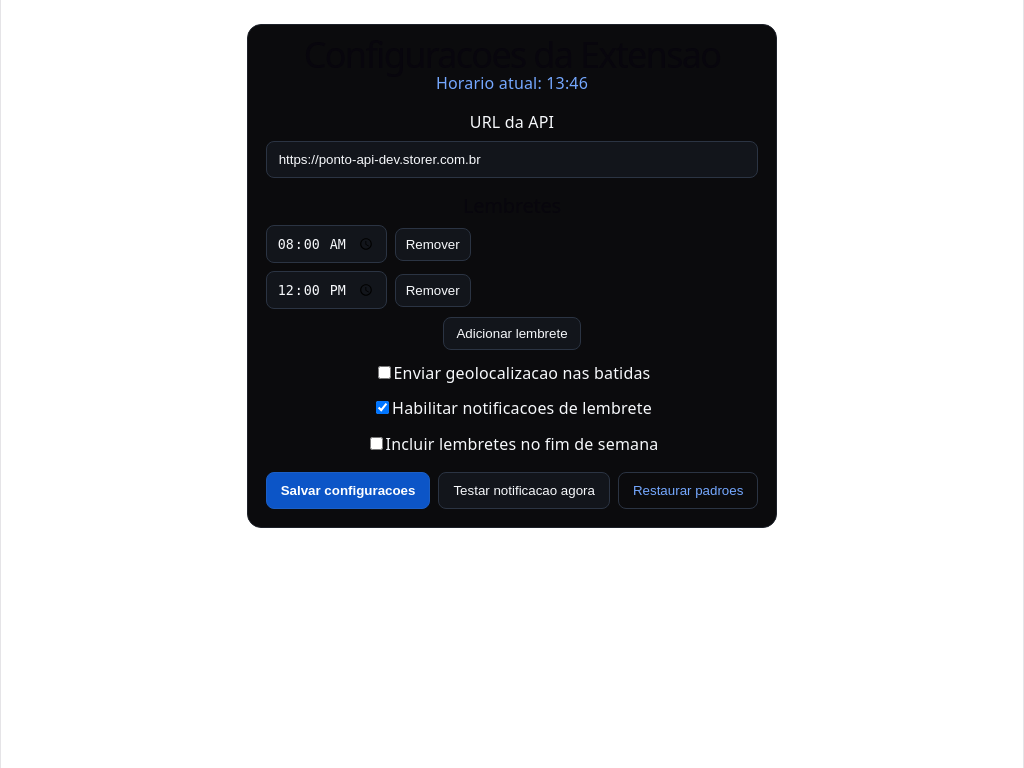
Scenario: OptionsPage › permite adicionar lembretes ate o limite de 4 e remover mantendo minimo 1
Expected: the 1st time field showing "08:00" is shown, [266, 225, 387, 263]
Click the button "Adicionar lembrete". click: (512, 334)
box: [443, 317, 580, 350]
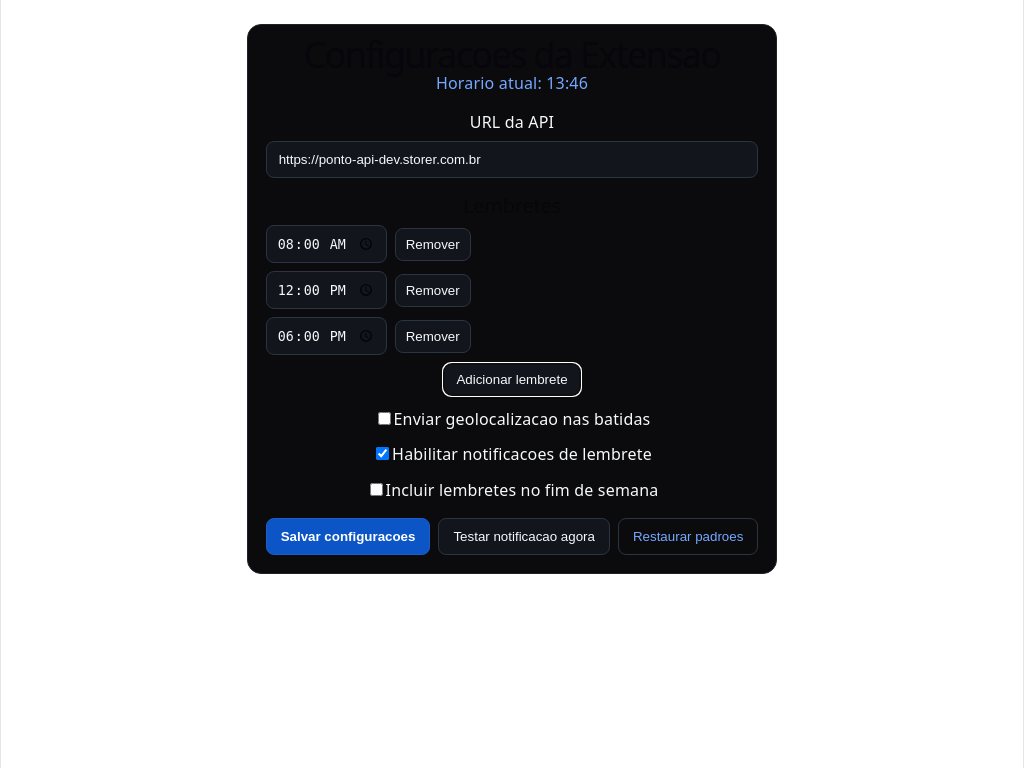
Click the button "Adicionar lembrete". click: (512, 380)
box: [443, 363, 580, 396]
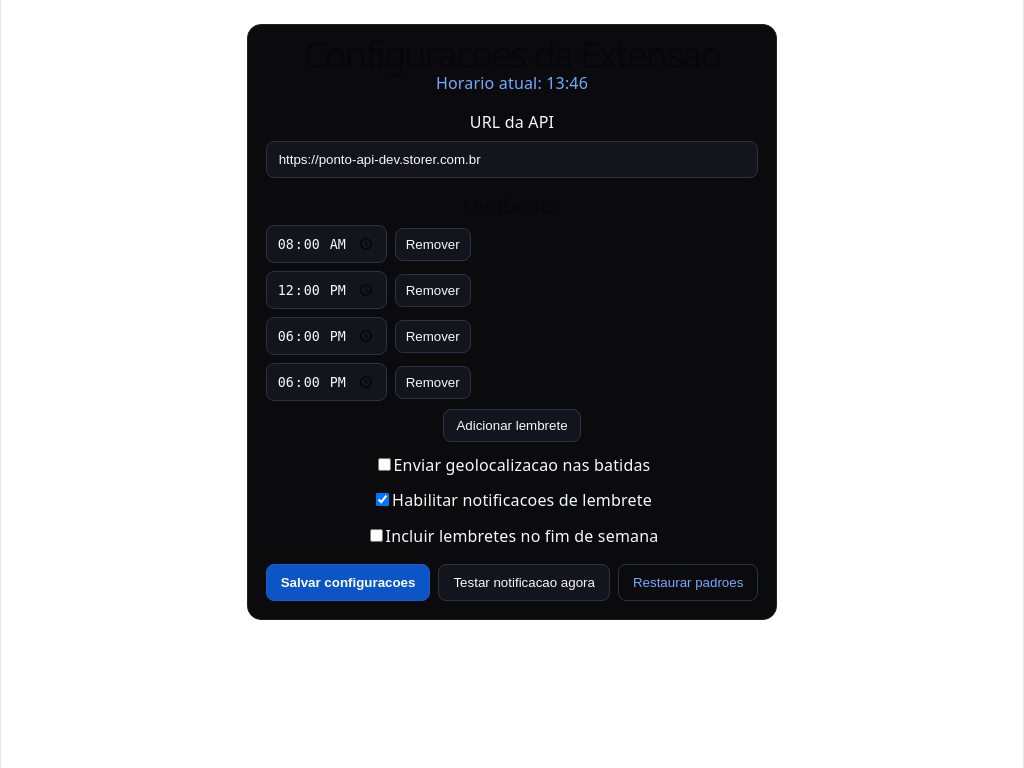
Now the number of time fields is 4, box [266, 225, 387, 263]; [266, 271, 387, 309]; [266, 317, 387, 355]; [266, 363, 387, 401]
Now the button "Adicionar lembrete" is disabled, box [443, 409, 580, 442]
Click the 1st button "Remover". click: (433, 244)
box: [395, 228, 471, 261]
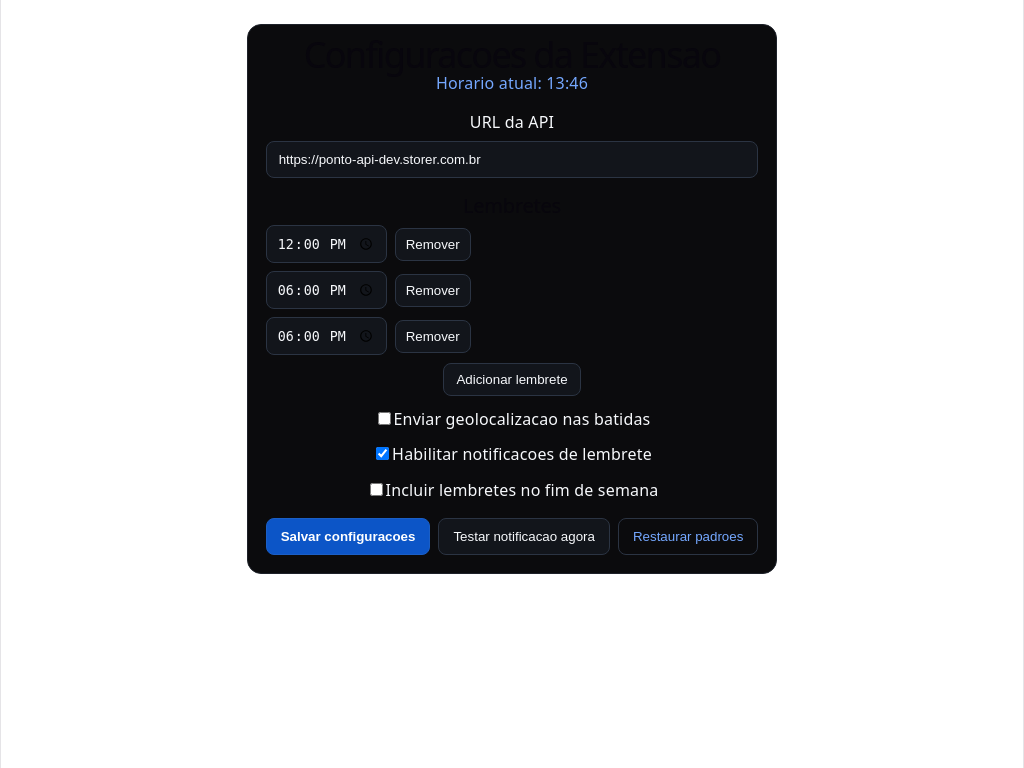
Click the 1st button "Remover". click: (433, 244)
box: [395, 228, 471, 261]
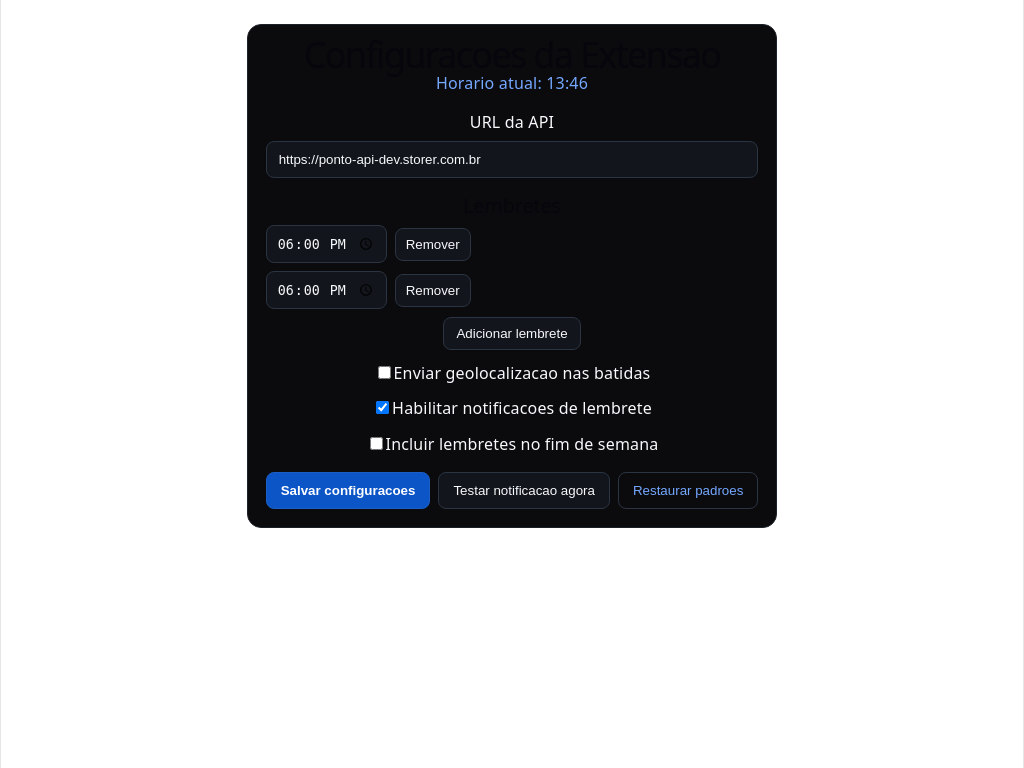
Click the 1st button "Remover". click: (433, 244)
box: [395, 228, 471, 261]
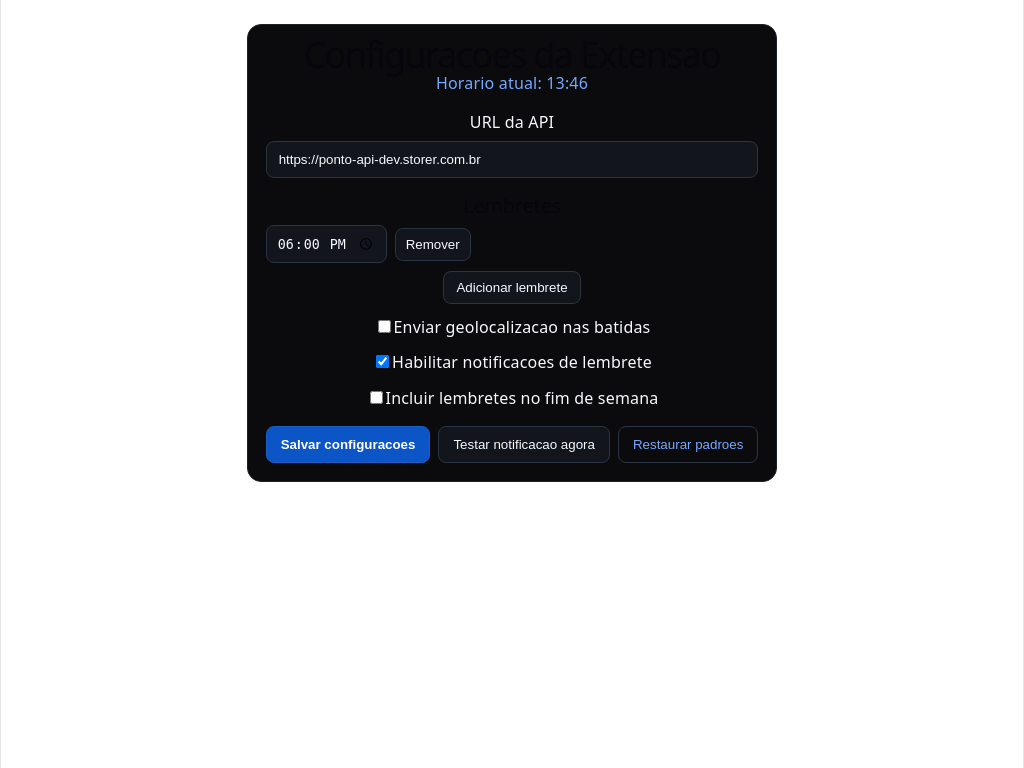
Now the number of time fields is 1, box [266, 225, 387, 263]
